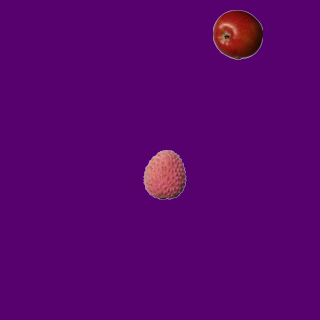Apple Braeburn: (212, 9, 262, 59)
Lychee: (139, 149, 189, 199)
